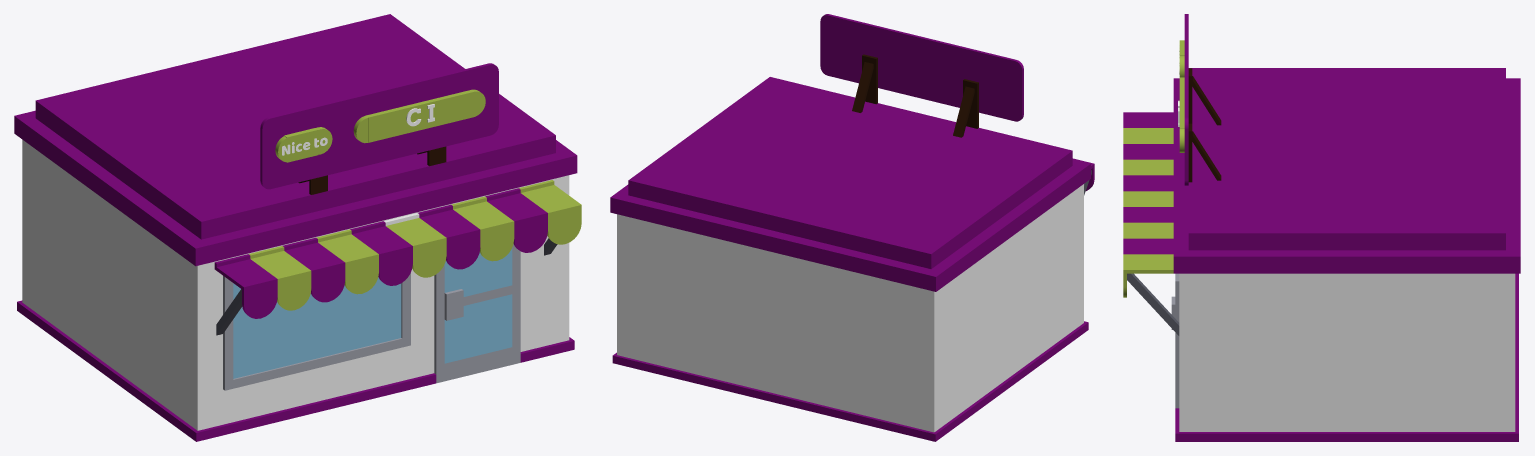
3 views of the same model, side by side, from view 1: azimuth 30°, elevation 25°; view 2: azimuth 150°, elevation 25°; view 3: azimuth 270°, elevation 25° (orthographic). The views are drawn at different scales.
Visible parts, largest first — view 1: cu; view 2: cu; view 3: cu.
Part boxes in pixels (left/top/right/bottom): cu: left=14, top=14, right=581, bottom=441; cu: left=610, top=14, right=1094, bottom=441; cu: left=1123, top=14, right=1520, bottom=441.
Bounding box in the file's own units: 2872 × 2160 × 2707.
